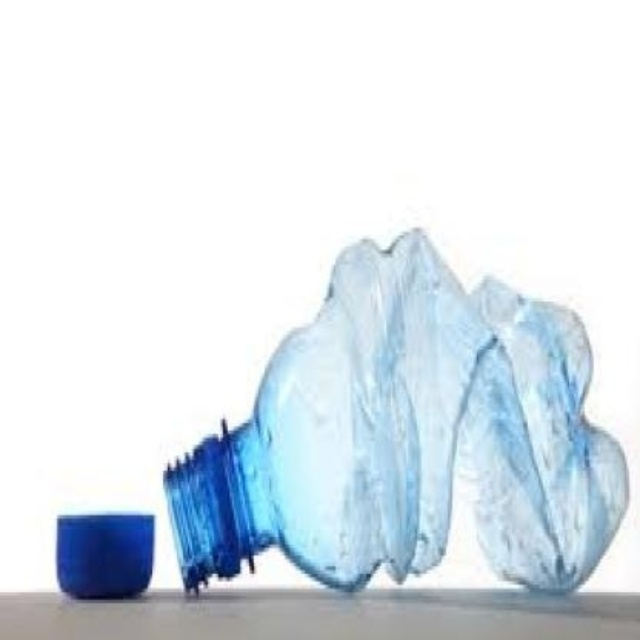trash: (165, 229, 626, 589), (57, 515, 152, 597)
